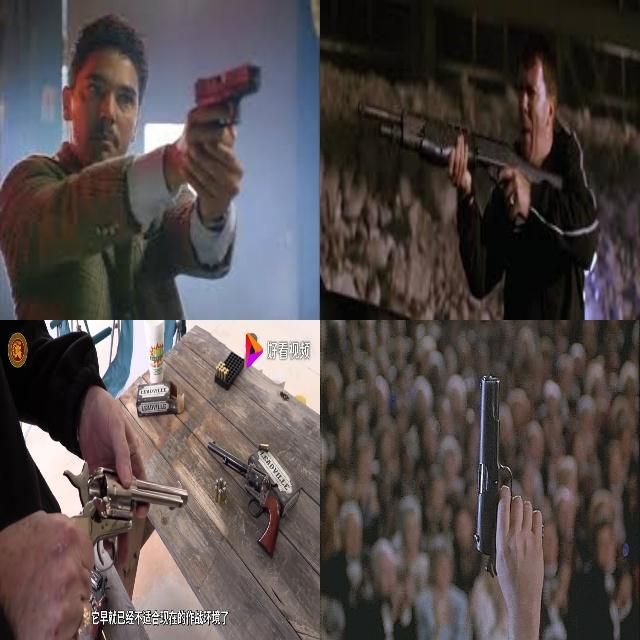gun-knife-thesis - v11 Yolov5 augmented: (354, 69, 570, 254), (19, 446, 190, 620), (467, 365, 547, 585), (188, 60, 258, 190), (206, 434, 277, 558)
